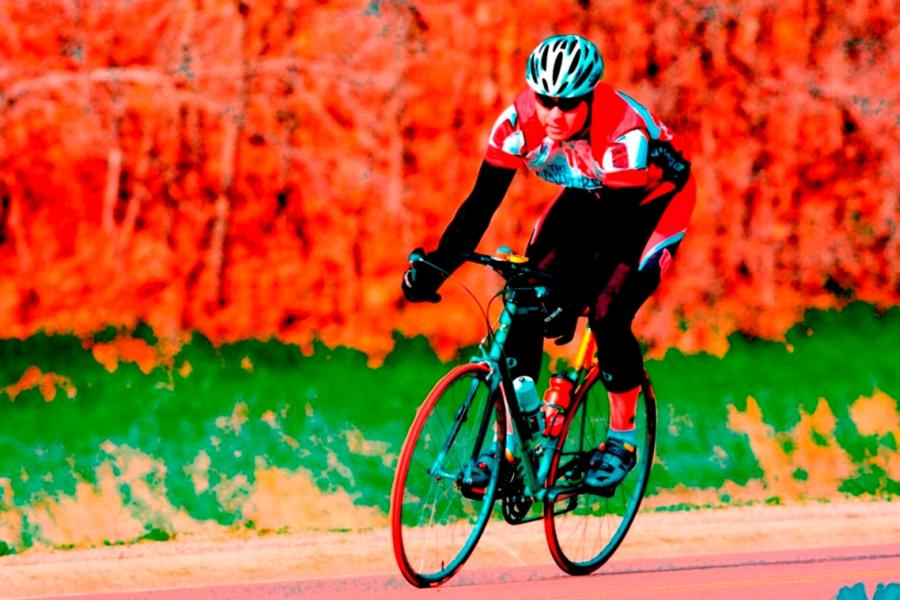person: (403, 31, 692, 496)
